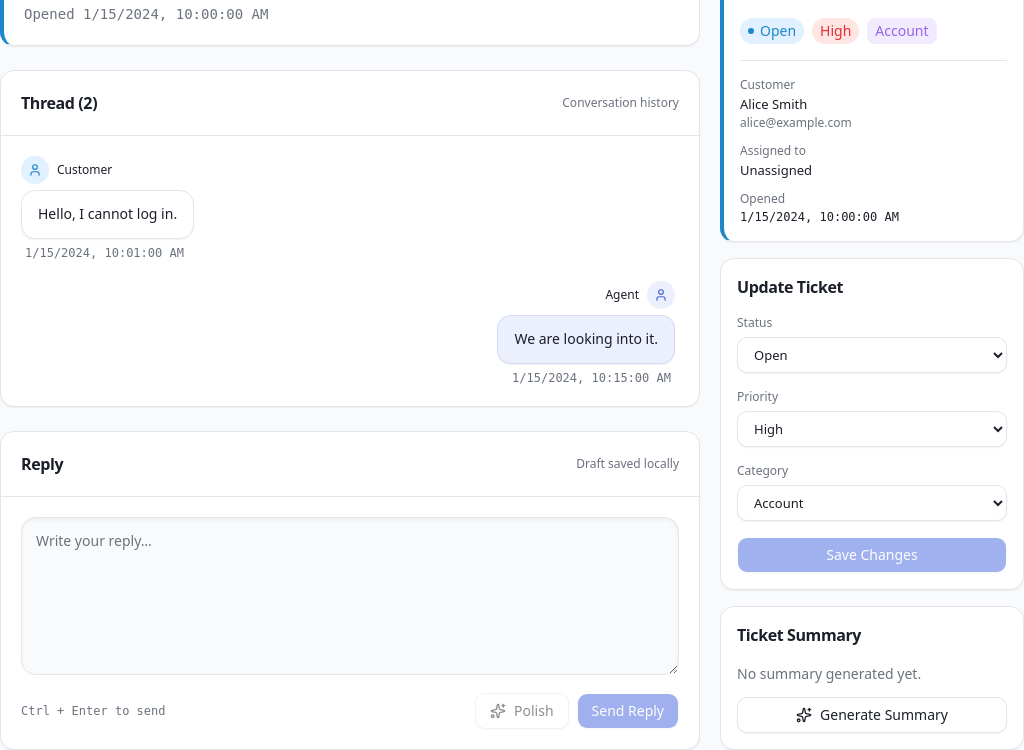
TicketDetail page › Send Reply button becomes enabled when text is entered
(page scrolled)
Step 1. Type "Here is my reply." into the text box with placeholder "Write your reply…" → (350, 596), box top-left (21, 516), bottom-right (679, 674)
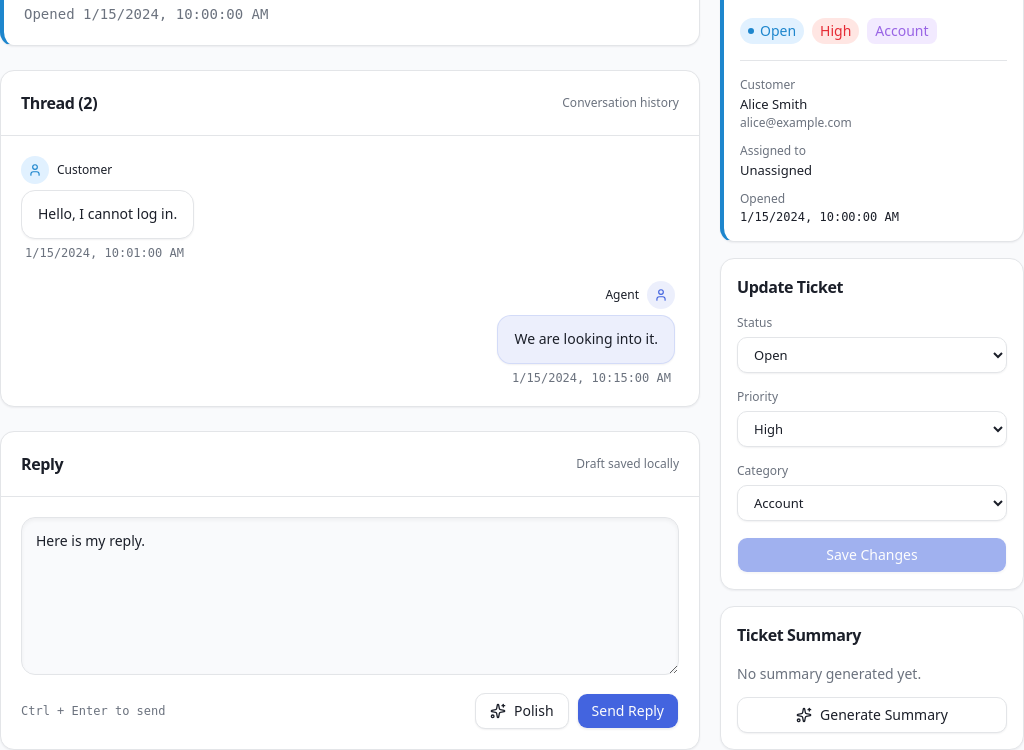
Result: the button "Send Reply" is enabled at top-left (576, 692), bottom-right (679, 728)
